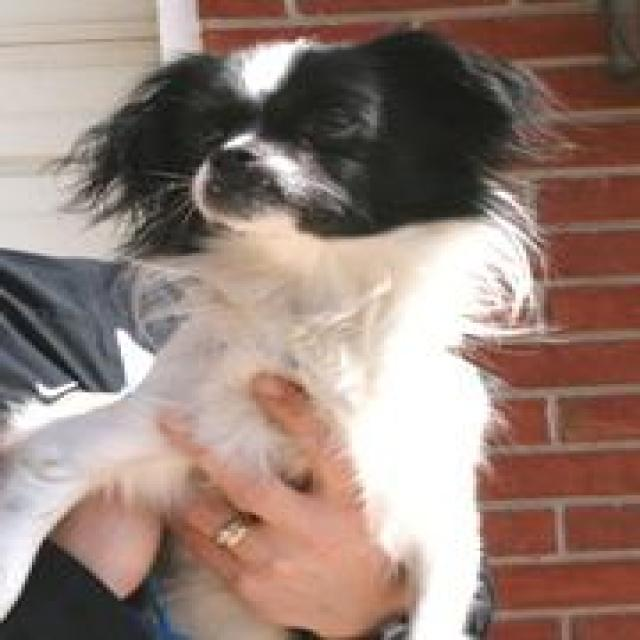husky: (0, 22, 551, 637)
